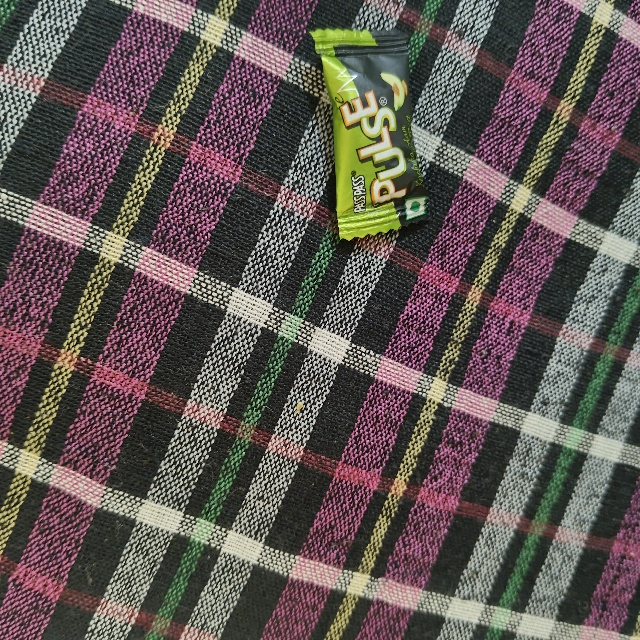Pulse: (303, 31, 408, 249)
